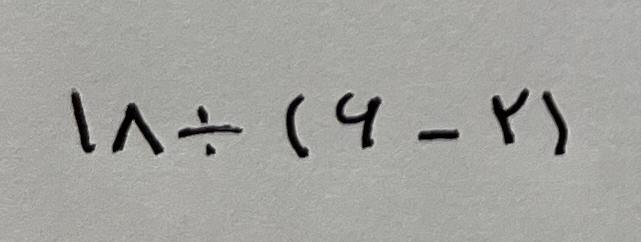character: (178, 105, 242, 157), (335, 92, 380, 150), (112, 103, 160, 155), (491, 88, 531, 147), (541, 91, 569, 157), (70, 89, 96, 153), (285, 93, 308, 159), (417, 129, 459, 141)
